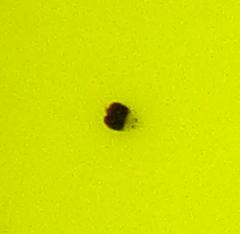Coleoptera: (100, 100, 140, 134)
